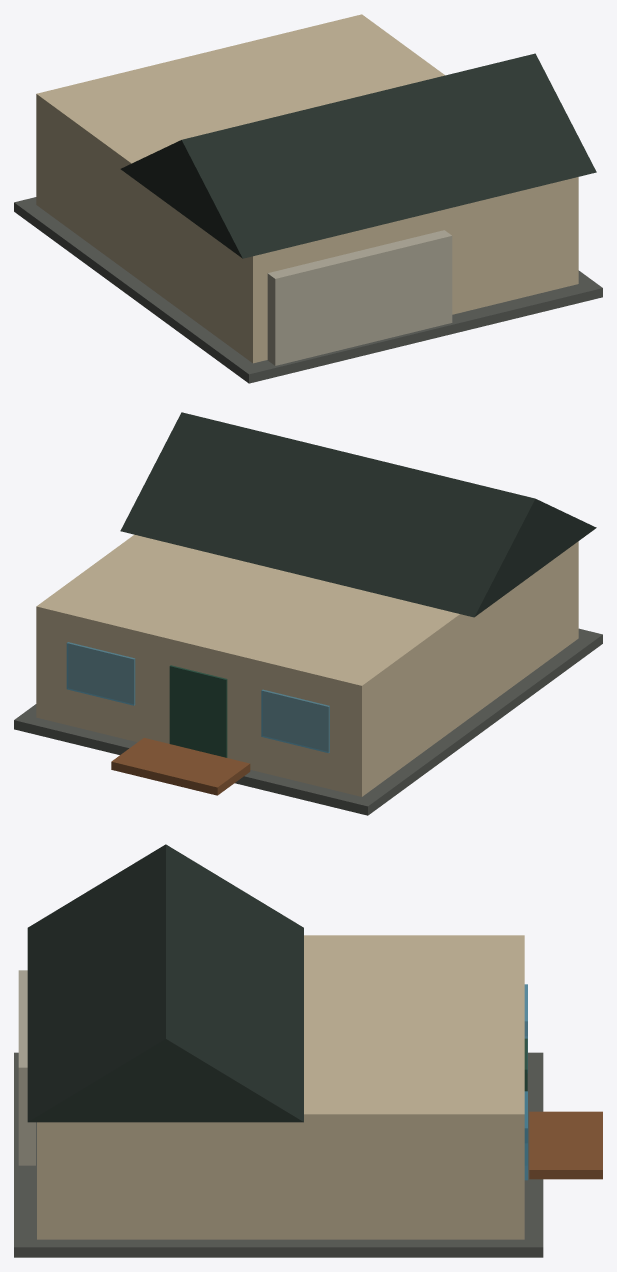
File: example-house.obj
The picture shows the model from 3 angles, top to bottom: view 1: azimuth 30°, elevation 25°; view 2: azimuth 150°, elevation 25°; view 3: azimuth 270°, elevation 25°; orthographic projection. The views are drawn at different scales.
Visible parts, largest first — view 1: house_body, gable_roof, garage, foundation; view 2: house_body, gable_roof, foundation, front_door, porch, window_right, window_left; view 3: house_body, gable_roof, foundation, porch, garage.
Part boxes in pixels (box(x1,y1,x2,y2)): house_body: box(36, 14, 578, 363); gable_roof: box(120, 53, 596, 258); garage: box(267, 230, 452, 365); foundation: box(14, 197, 602, 383); house_body: box(36, 534, 578, 796); gable_roof: box(120, 412, 596, 617); foundation: box(14, 628, 602, 815); front_door: box(169, 665, 227, 757); porch: box(111, 738, 250, 795); window_right: box(66, 642, 135, 705); window_left: box(261, 689, 329, 753); house_body: box(37, 935, 524, 1239); gable_roof: box(27, 844, 303, 1122); foundation: box(14, 1052, 543, 1257); porch: box(529, 1111, 602, 1179); garage: box(18, 970, 35, 1165).
Bounding box in the file's own units: 10 × 5.25 × 12.8.
